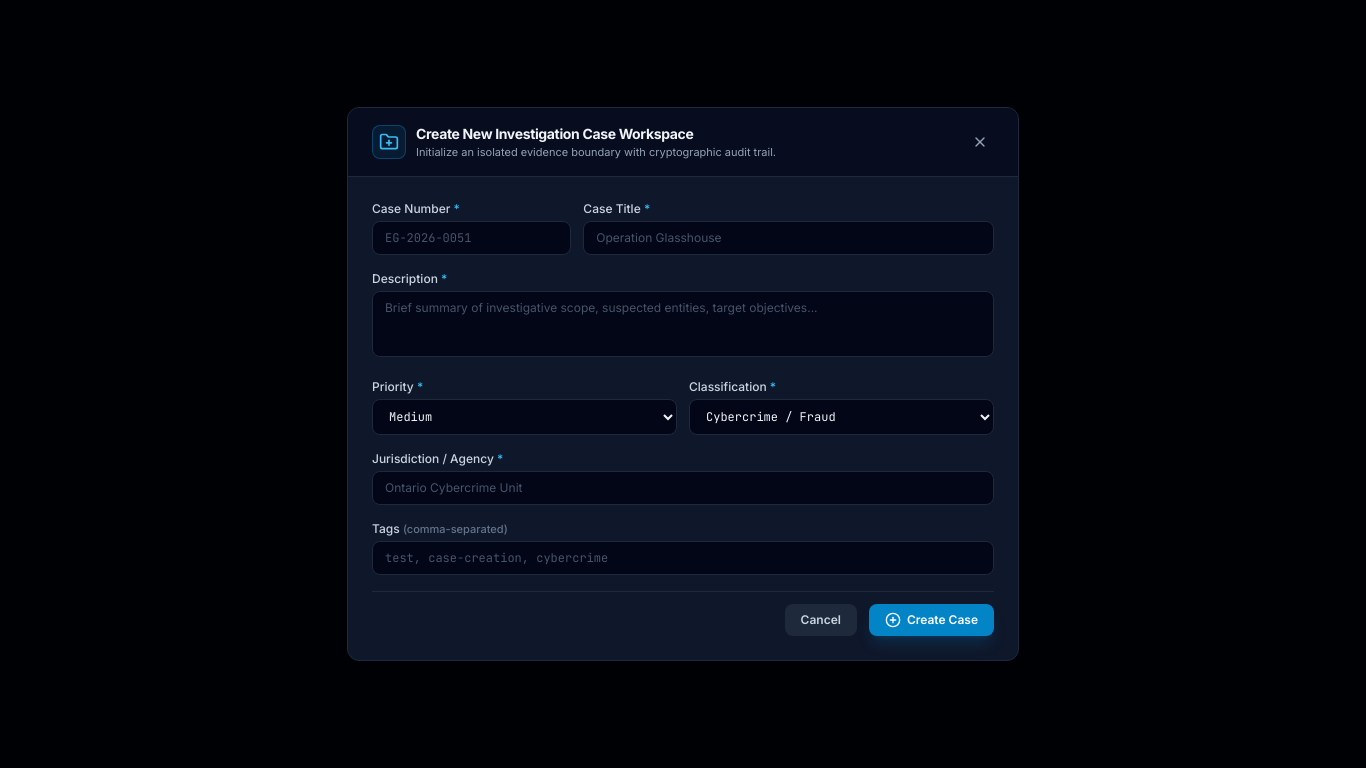
CreateCaseModal Component › validates required fields and shows error when blank
// Click submit with empty form
Step 1. Click the button "Create Case" → (931, 620), box [869, 604, 994, 636]
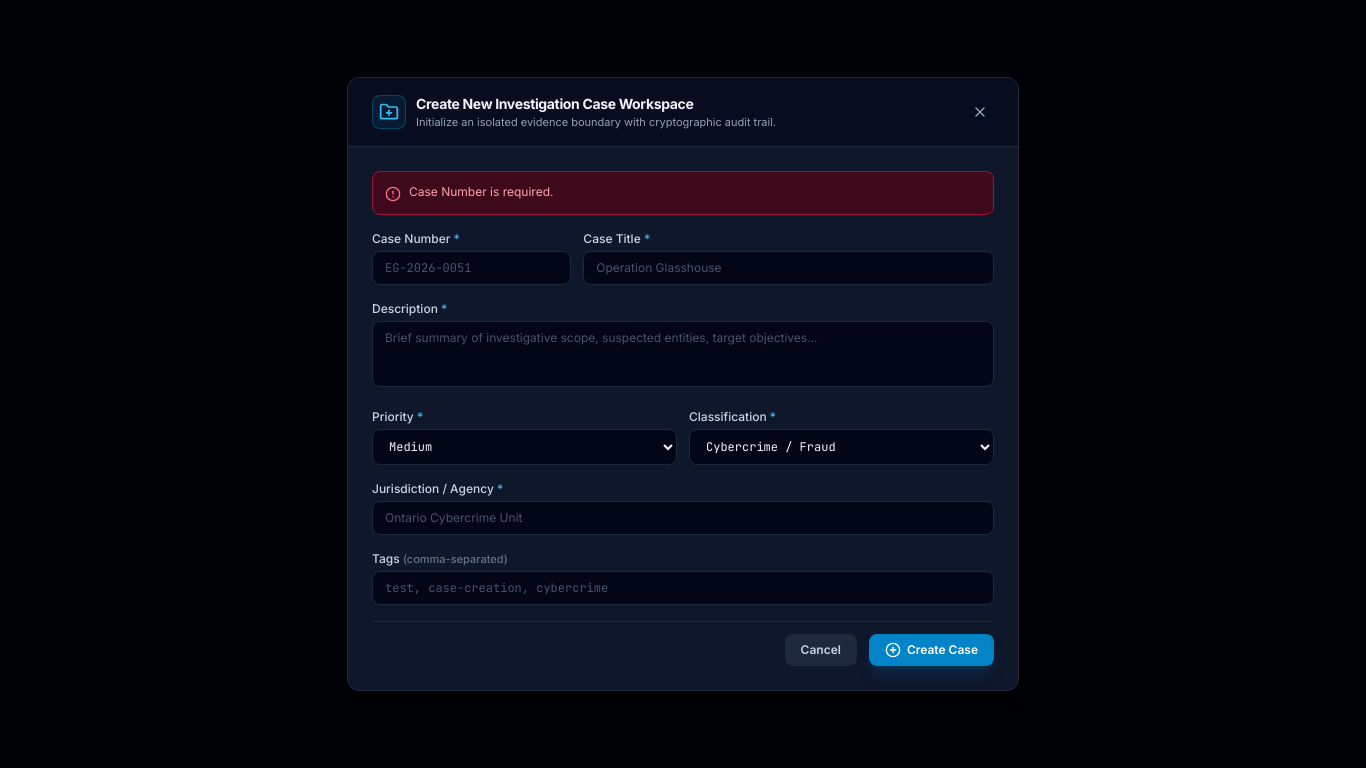
Now the text "Case Number is required." is shown, box [409, 184, 554, 199]
